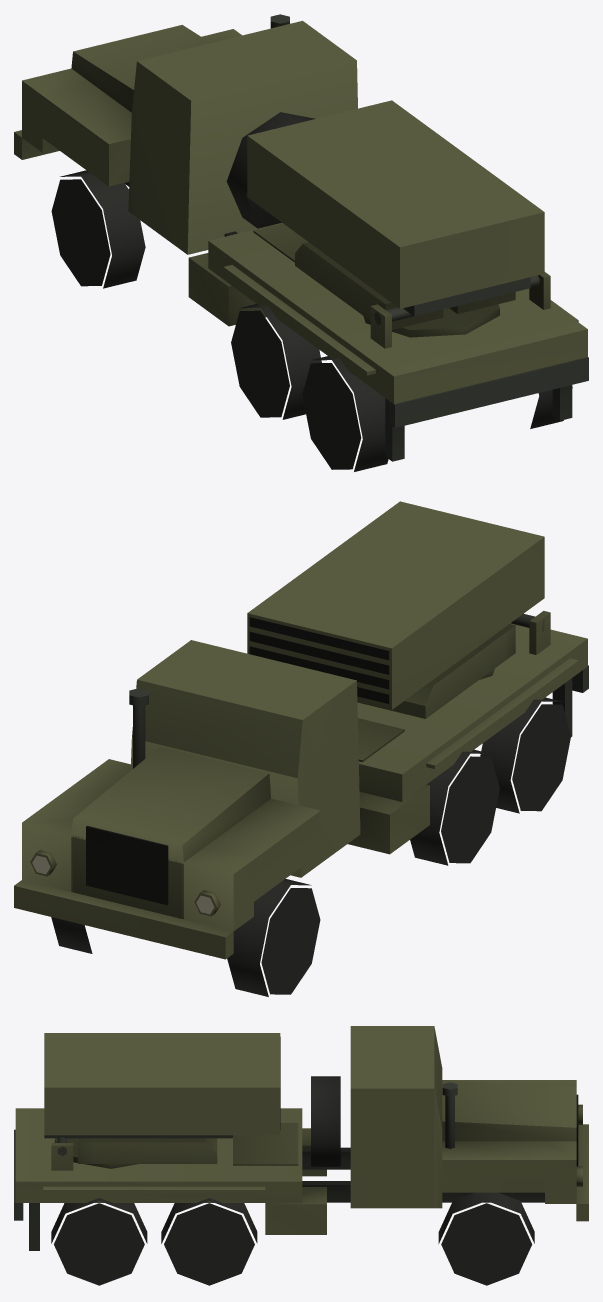
The picture shows the model from 3 angles, top to bottom: view 1: azimuth 30°, elevation 25°; view 2: azimuth 150°, elevation 25°; view 3: azimuth 270°, elevation 25°; orthographic projection. The views are drawn at different scales.
Parts seen in each view (by area): view 1: Hull_BM21_Paint, GunPitch_BM21_Paint, LeftTrack_Motion_BM21_Rubber, TurretYaw_BM21_Paint, Hull_BM21_DarkSteel, Hull_BM21_Rubber, GunPitch_BM21_DarkSteel, RightTrack_Motion_BM21_Rubber; view 2: Hull_BM21_Paint, GunPitch_BM21_Paint, LeftTrack_Motion_BM21_Rubber, Hull_BM21_Cavity, TurretYaw_BM21_Paint, GunPitch_BM21_Cavity, Hull_BM21_DarkSteel, RightTrack_Motion_BM21_Rubber; view 3: Hull_BM21_Paint, GunPitch_BM21_Paint, RightTrack_Motion_BM21_Rubber, TurretYaw_BM21_Paint, Hull_BM21_DarkSteel, Hull_BM21_Rubber, GunPitch_BM21_DarkSteel.
Boxes of the visible parts, x1=… form: Hull_BM21_Paint: x1=14, y1=20, x2=587, y2=403; GunPitch_BM21_Paint: x1=247, y1=100, x2=544, y2=308; LeftTrack_Motion_BM21_Rubber: x1=51, y1=170, x2=388, y2=471; TurretYaw_BM21_Paint: x1=295, y1=242, x2=550, y2=348; Hull_BM21_DarkSteel: x1=124, y1=14, x2=588, y2=461; Hull_BM21_Rubber: x1=226, y1=112, x2=315, y2=228; GunPitch_BM21_DarkSteel: x1=374, y1=275, x2=539, y2=324; RightTrack_Motion_BM21_Rubber: x1=530, y1=387, x2=572, y2=428; Hull_BM21_Paint: x1=14, y1=623, x2=587, y2=959; GunPitch_BM21_Paint: x1=247, y1=501, x2=544, y2=709; LeftTrack_Motion_BM21_Rubber: x1=227, y1=697, x2=570, y2=996; Hull_BM21_Cavity: x1=86, y1=826, x2=168, y2=905; TurretYaw_BM21_Paint: x1=357, y1=611, x2=550, y2=718; GunPitch_BM21_Cavity: x1=249, y1=617, x2=389, y2=703; Hull_BM21_DarkSteel: x1=129, y1=665, x2=588, y2=918; RightTrack_Motion_BM21_Rubber: x1=51, y1=891, x2=92, y2=953; Hull_BM21_Paint: x1=15, y1=1026, x2=588, y2=1234; GunPitch_BM21_Paint: x1=44, y1=1033, x2=280, y2=1135; RightTrack_Motion_BM21_Rubber: x1=51, y1=1192, x2=534, y2=1285; TurretYaw_BM21_Paint: x1=51, y1=1138, x2=217, y2=1170; Hull_BM21_DarkSteel: x1=14, y1=1082, x2=544, y2=1250; Hull_BM21_Rubber: x1=311, y1=1076, x2=340, y2=1166; GunPitch_BM21_DarkSteel: x1=44, y1=1135, x2=232, y2=1156.
Bounding box in the file's own units: 2.4 × 2.68 × 7.31.
